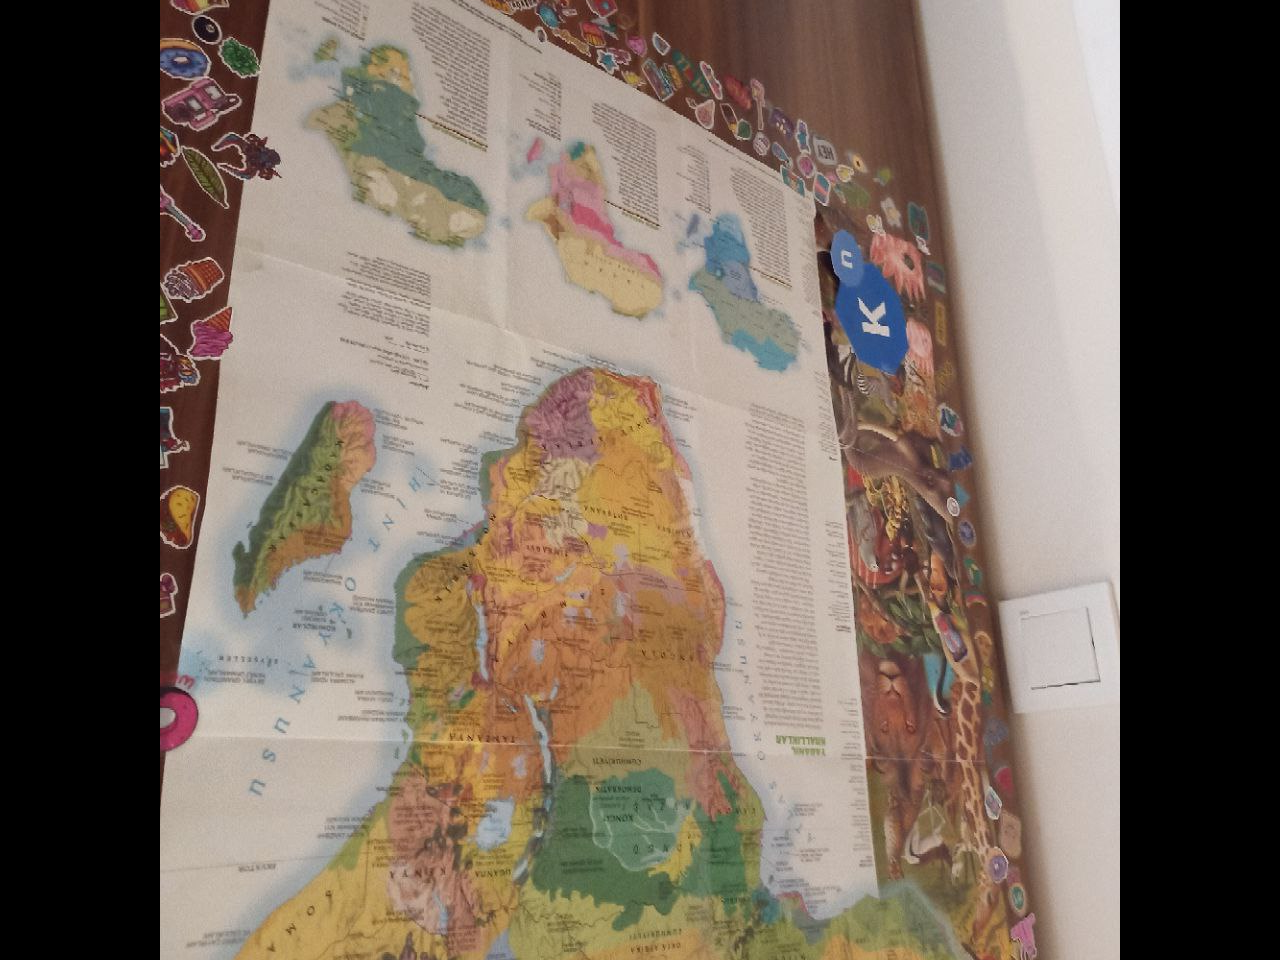knative: (828, 229, 908, 373)
